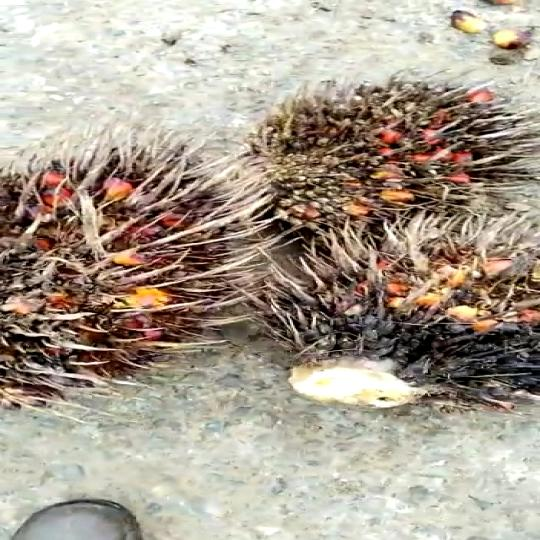terlalu masak: (254, 216, 540, 409), (207, 85, 540, 240)
